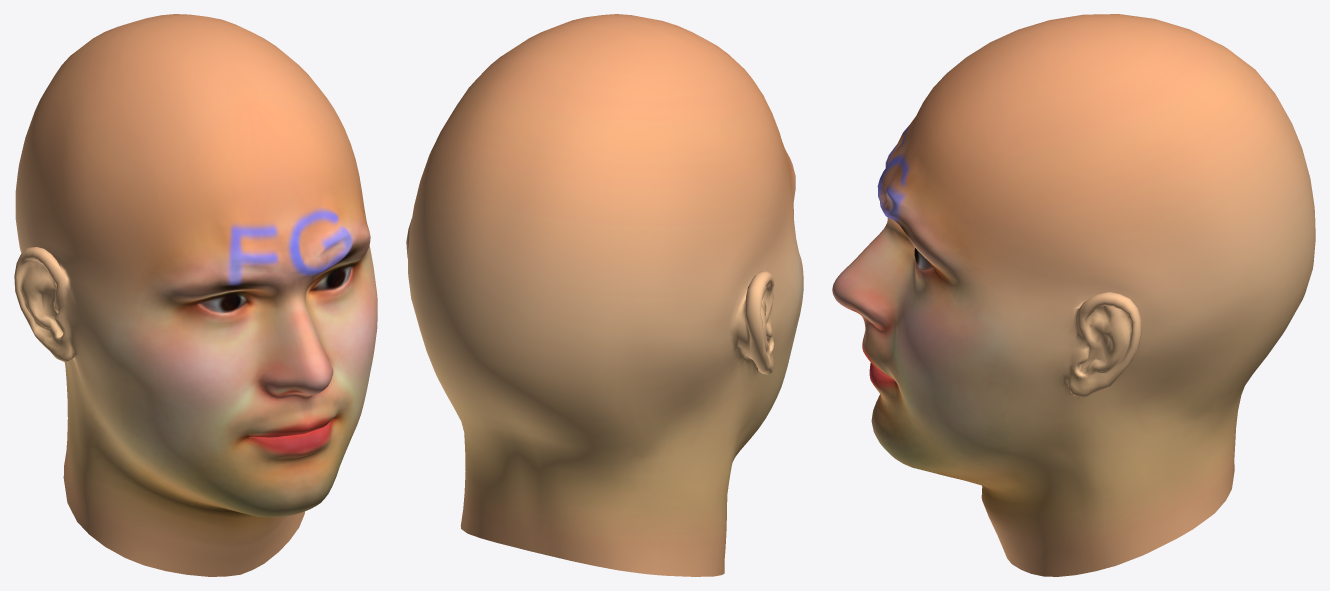
File: avg_anyrace_male_19.obj
3 renders of one model, left to right at view 1: azimuth 30°, elevation 25°; view 2: azimuth 150°, elevation 25°; view 3: azimuth 270°, elevation 25°, orthographic. The views are drawn at different scales.
Parts seen in each view (by area): view 1: HeadHires; view 2: HeadHires; view 3: HeadHires.
Boxes of the visible parts, x1=… form: HeadHires: x1=14, y1=14, x2=377, y2=576; HeadHires: x1=406, y1=14, x2=803, y2=576; HeadHires: x1=832, y1=14, x2=1315, y2=576.
Bounding box in the file's own units: 191 × 283 × 237.
Materials: 1 (1 with a texture image).
